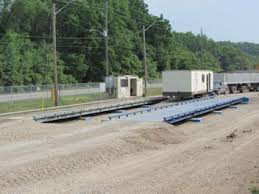Industrial Scale: (110, 96, 253, 122)
